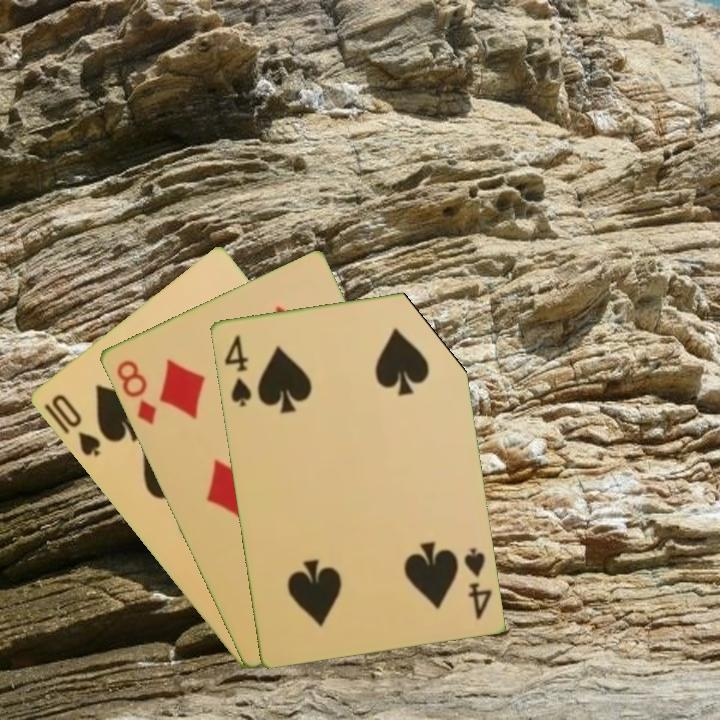10s: (47, 390, 103, 460)
4s: (220, 330, 254, 410), (460, 543, 494, 622)
8d: (112, 356, 159, 428)
